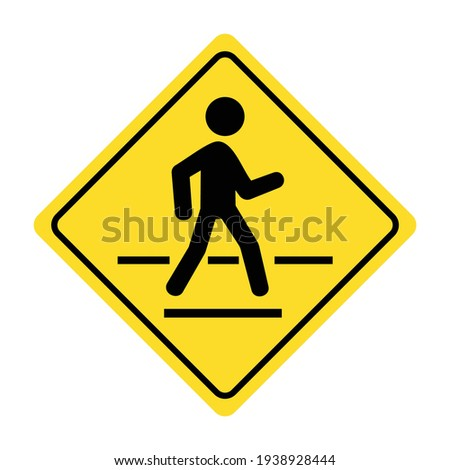pedestrian: (90, 54, 358, 384)
